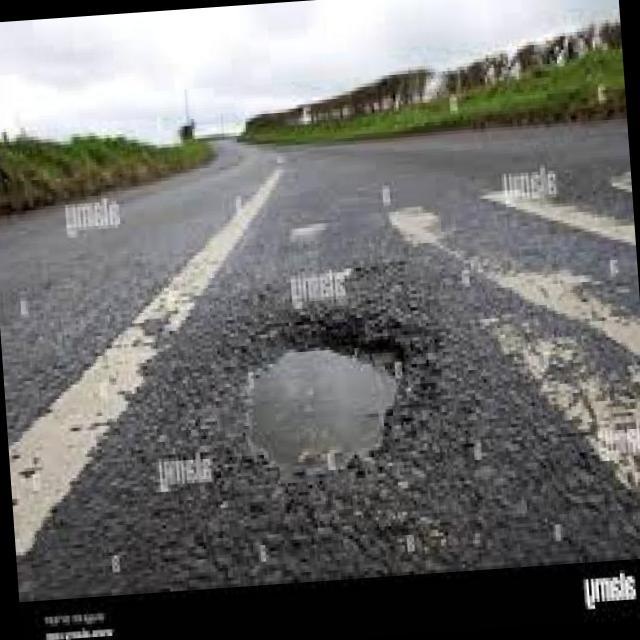Burst: (248, 346, 401, 480)
